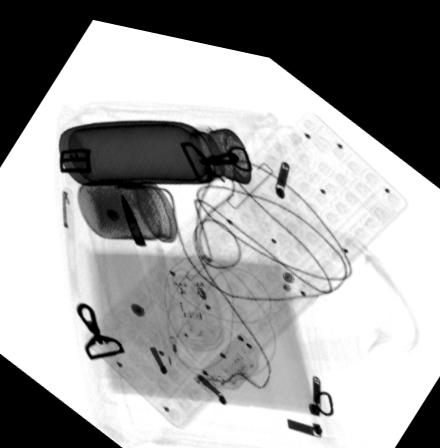Bullet: (120, 185, 146, 240)
